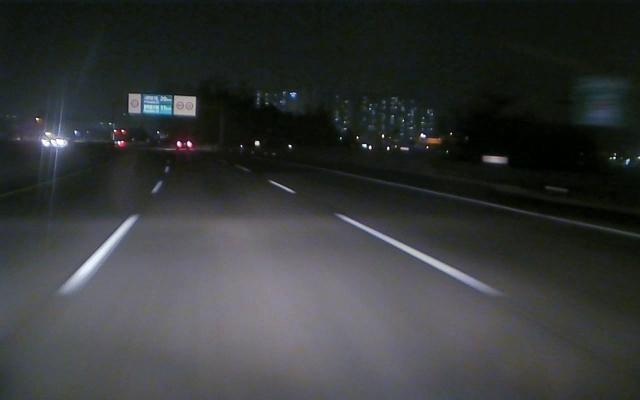lane: (282, 189, 504, 298), (368, 178, 637, 239), (55, 181, 163, 297)
